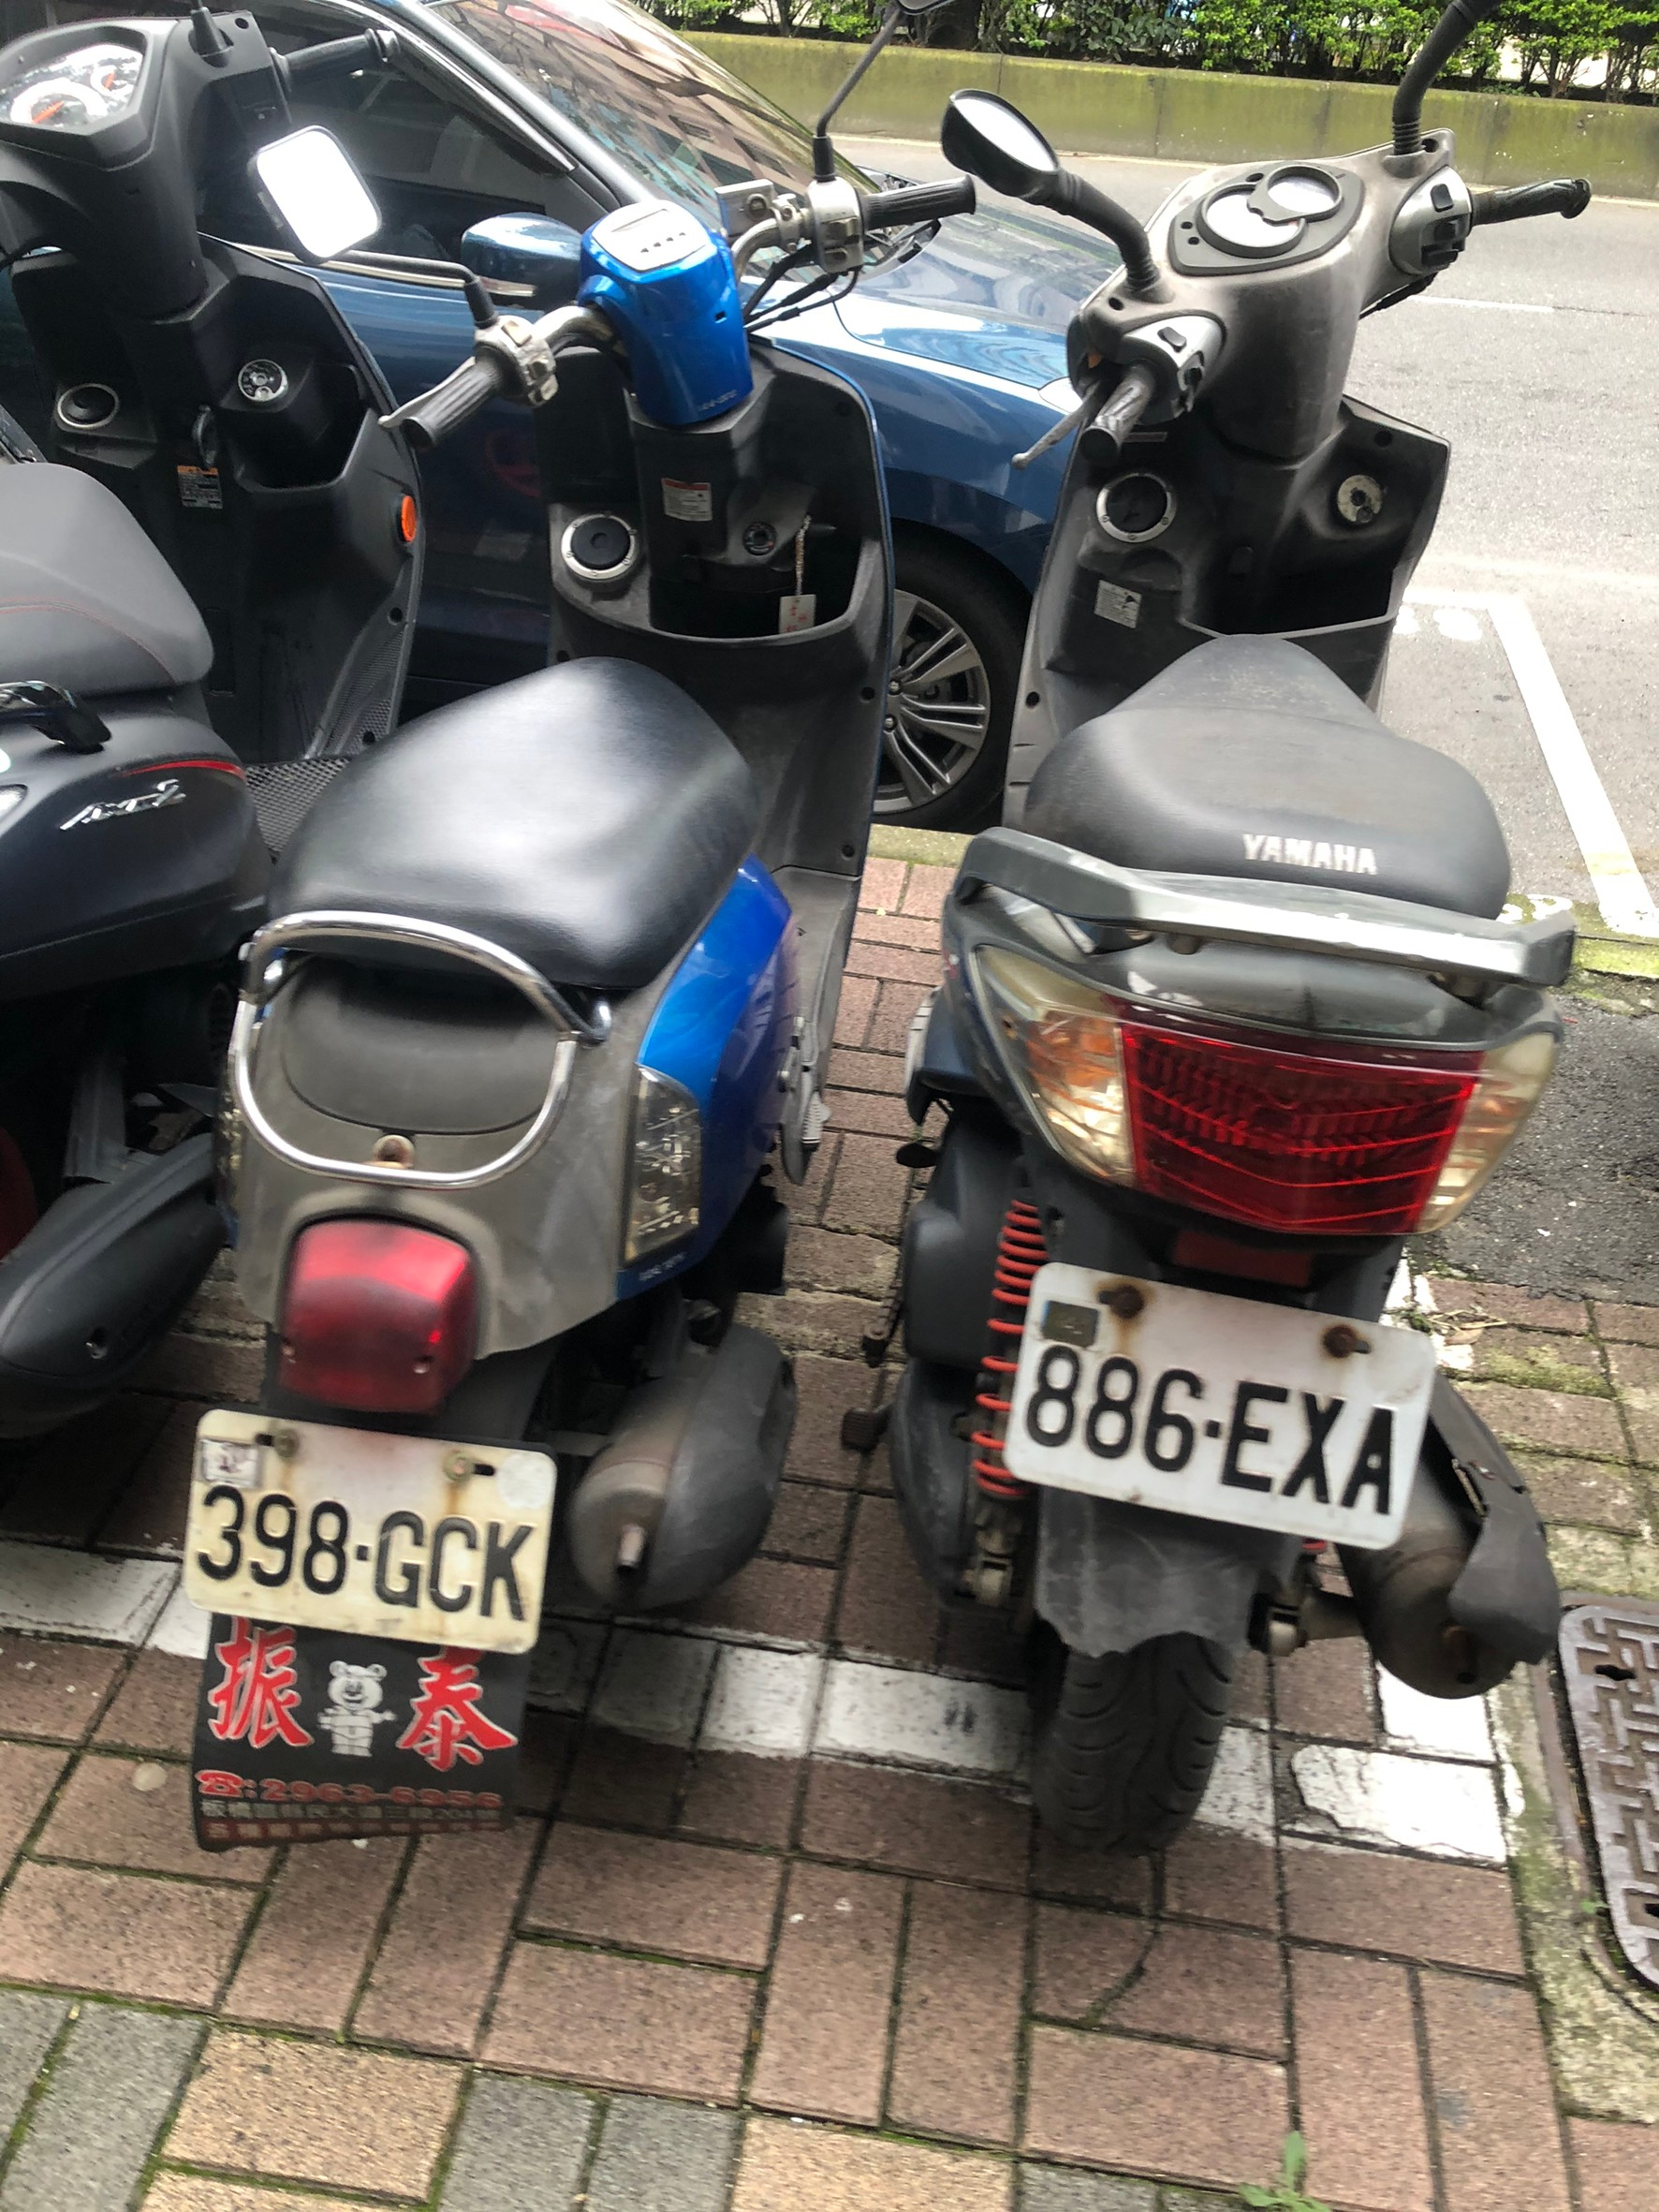LP: (1003, 1253, 1420, 1527), (181, 1406, 535, 1644)
